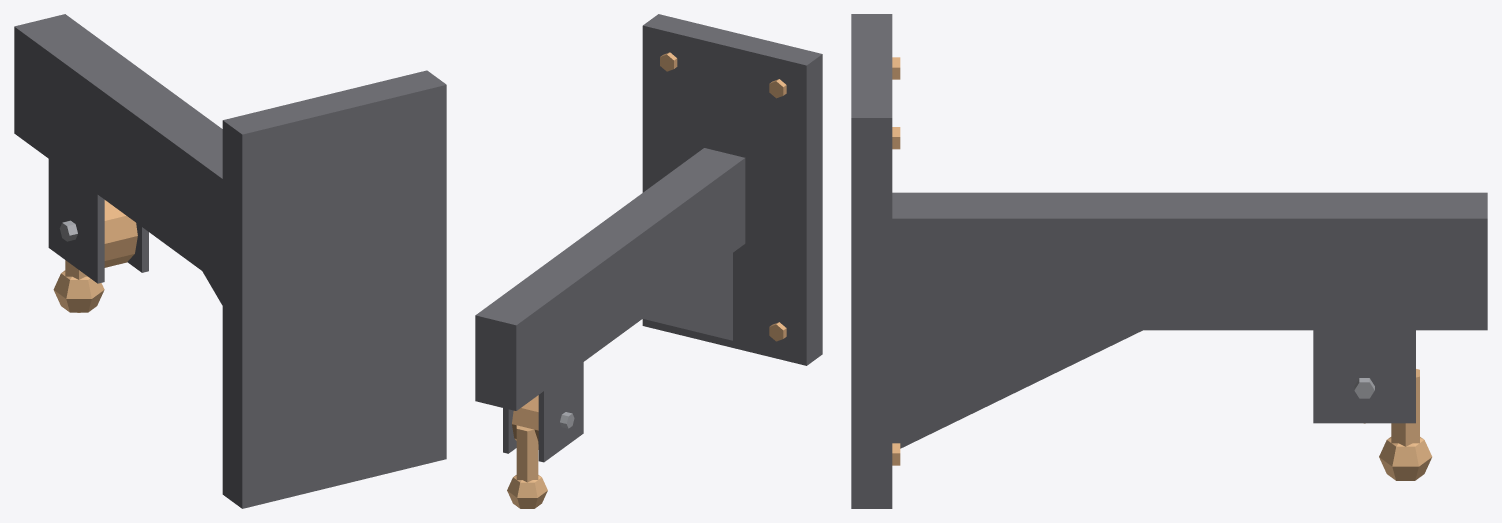
File: rope_bracket.glb
3 views of the same model, side by side, from view 1: azimuth 30°, elevation 25°; view 2: azimuth 150°, elevation 25°; view 3: azimuth 270°, elevation 25° (orthographic). The views are drawn at different scales.
Parts seen in each view (by area): view 1: RopeBracket; view 2: RopeBracket; view 3: RopeBracket.
Part boxes in pixels (<box>): RopeBracket: <box>14,14,446,508</box>; RopeBracket: <box>475,14,822,508</box>; RopeBracket: <box>851,14,1487,508</box>.
Size of the model in its own units: 0.24 by 0.446 by 0.62.
